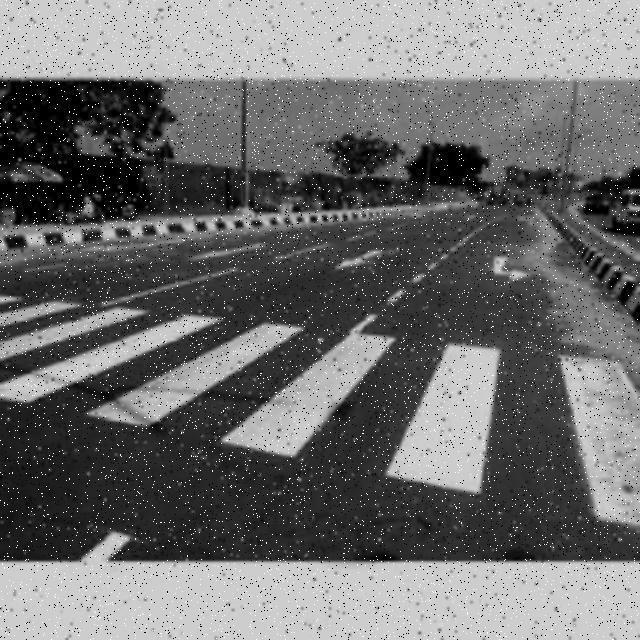crosswalk: (6, 295, 640, 527)
